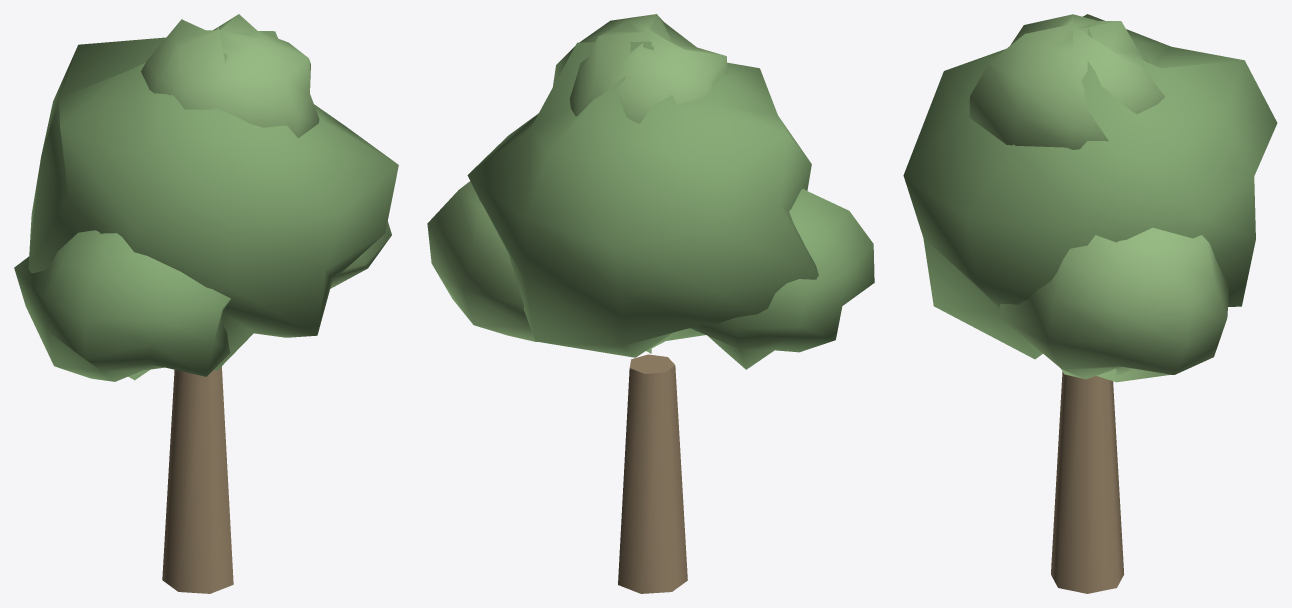
Rendered from tree.glb.
3 views of the same model, side by side, from view 1: azimuth 30°, elevation 25°; view 2: azimuth 150°, elevation 25°; view 3: azimuth 270°, elevation 25° (orthographic). The views are drawn at different scales.
Visible parts, largest first — view 1: elm; view 2: elm; view 3: elm.
Part boxes in pixels (x1,y1,x2,y2): elm: (14,14,398,593); elm: (427,14,874,593); elm: (903,14,1277,593).
Size of the model in its own units: 29.67 by 42.98 by 25.85.
